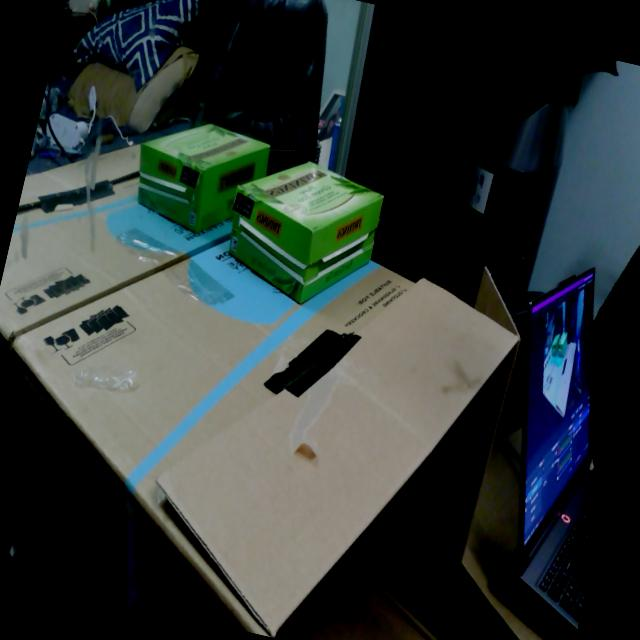twinings_greentea_box: (228, 161, 383, 303)
